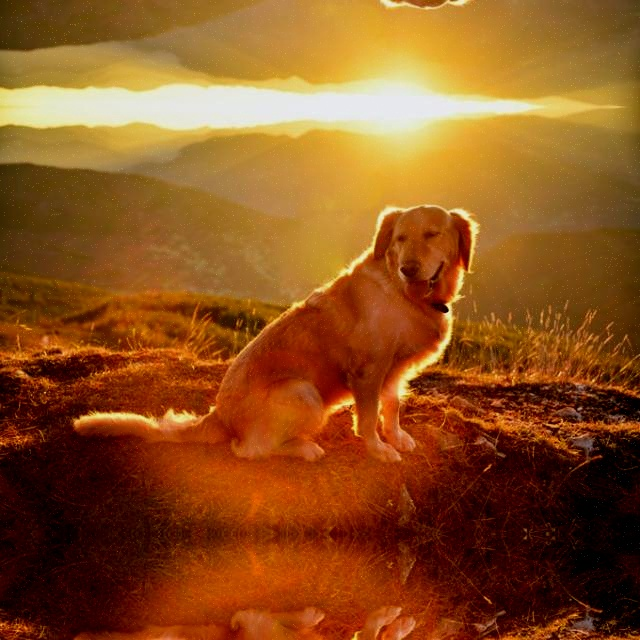dog: (202, 171, 492, 508), (201, 559, 492, 640), (201, 0, 492, 41)
